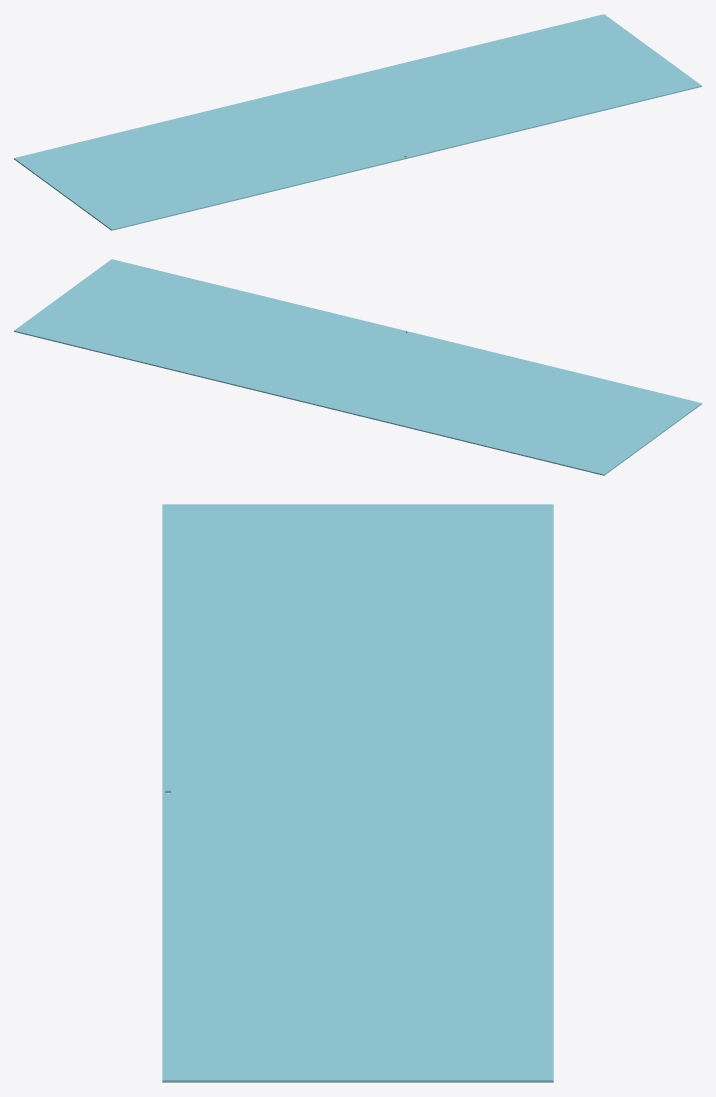
File: Ice.fbx
The picture shows the model from 3 angles, top to bottom: view 1: azimuth 30°, elevation 25°; view 2: azimuth 150°, elevation 25°; view 3: azimuth 270°, elevation 25°; orthographic projection. The views are drawn at different scales.
Visible parts, largest first — view 1: Ice; view 2: Ice; view 3: Ice.
Boxes of the visible parts, <box> form: Ice: <box>14,14,701,230</box>; Ice: <box>14,259,701,475</box>; Ice: <box>162,504,553,1082</box>.
Bounding box in the file's own units: 39663 × 76.06 × 11382.
